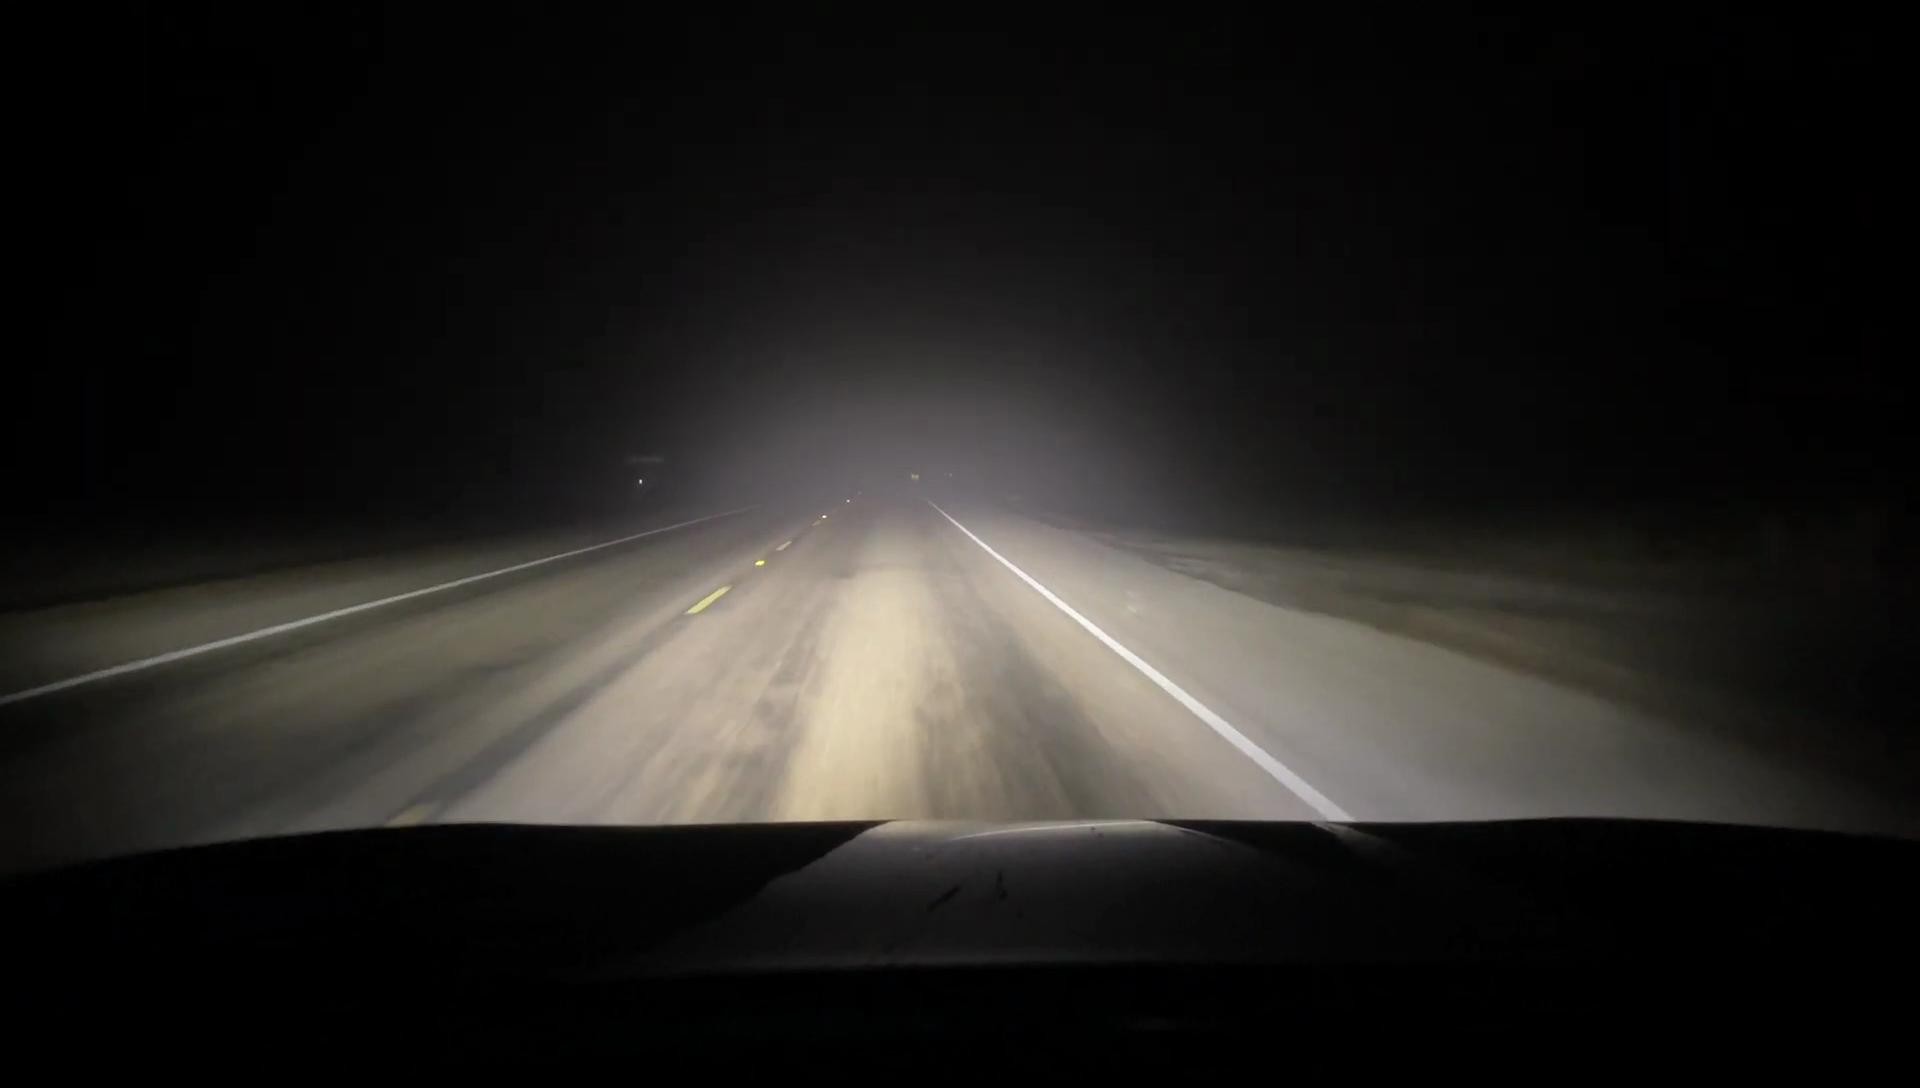road-lanes: (439, 495, 1309, 815)
